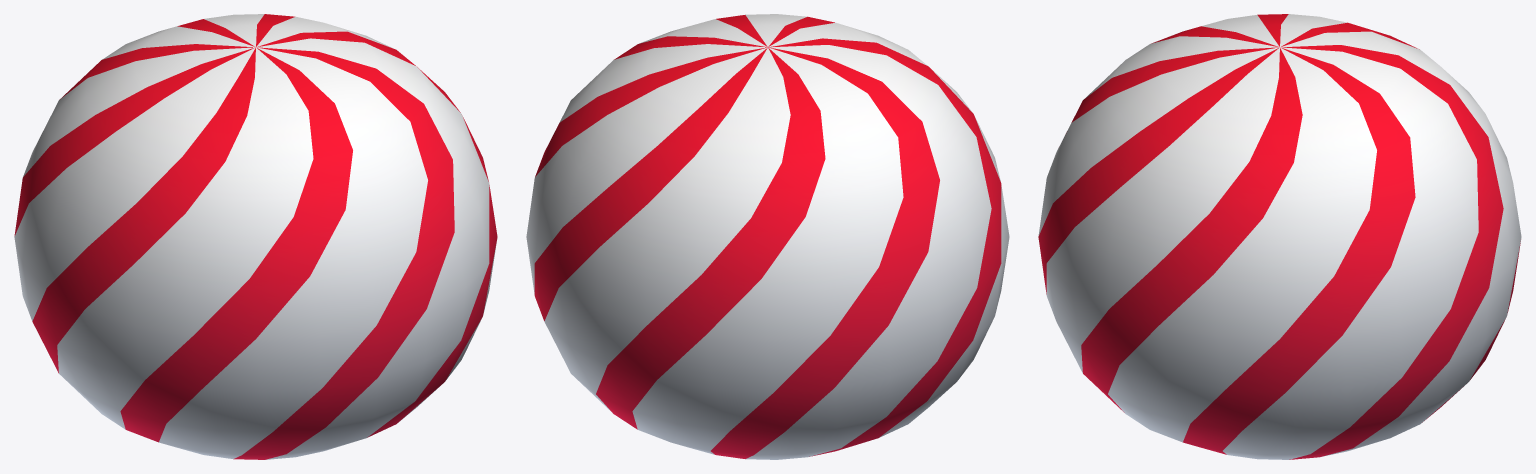
File: lollipop_002.glb
3 views of the same model, side by side, from view 1: azimuth 30°, elevation 25°; view 2: azimuth 150°, elevation 25°; view 3: azimuth 270°, elevation 25° (orthographic).
Visible parts, largest first — view 1: lollipop_002; view 2: lollipop_002; view 3: lollipop_002.
Boxes of the visible parts, left/top/right/bottom form: lollipop_002: left=14, top=14, right=497, bottom=459; lollipop_002: left=526, top=14, right=1009, bottom=459; lollipop_002: left=1038, top=14, right=1521, bottom=459.
Bounding box in the file's own units: 2.1 × 1.82 × 2.1.
1 material, 1 textured.
